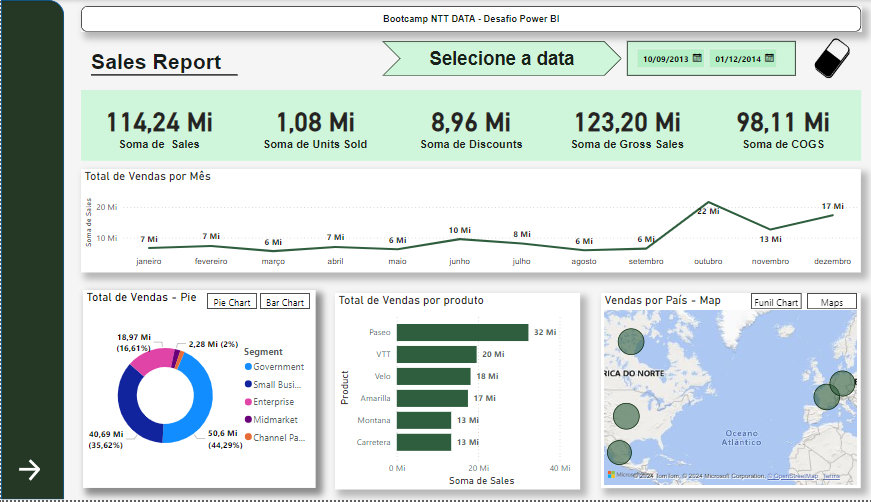

Layout of this report page (visuals, bound fields, positions):
{"tool":"powerbi","page":{"name":"Vendas","canvas":[1280,720],"ordinal":0},"visuals":[{"type":"slicer","fields":{"Values":["financials.Date"]},"box":[901.5,58.5,243.3,50.5],"z":0},{"type":"card","fields":{"Values":["Sum(financials. Sales)"]},"box":[115.3,129.7,224.7,102.1],"z":0,"group":"g2"},{"type":"clusteredBarChart","title":"Total de Vendas - Bar","fields":{"Category":["financials.Segment"],"Y":["Sum(financials. Sales)"]},"box":[117.7,417.9,334.4,284.6],"z":0,"group":"g1"},{"type":"map","title":"Vendas por País - Map","fields":{"Category":["financials.Country"],"Size":["Sum(financials. Sales)"]},"box":[864.2,422,374.2,280.9],"z":0,"group":"g3"},{"type":"card","fields":{"Values":["Sum(financials.Units Sold)"]},"box":[340,129.7,224.7,102.1],"z":1000,"group":"g2"},{"type":"donutChart","title":"Total de Vendas - Pie","fields":{"Category":["financials.Segment"],"Y":["Sum(financials. Sales)"]},"box":[117.7,417.9,335,284.9],"z":1000,"group":"g1"},{"type":"clusteredBarChart","title":"Total de Vendas por produto","fields":{"Y":["Sum(financials. Sales)"],"Category":["financials.Product"]},"box":[481.5,422,353.3,282.6],"z":1000},{"type":"actionButton","title":"Button - Bar Chart","box":[1080,422,72.7,23.2],"z":1250,"group":"g3"},{"type":"actionButton","title":"Button - Pie Chart","box":[295.8,422.9,72,22.8],"z":1250,"group":"g1"},{"type":"actionButton","title":"Button - Maps","box":[1160.9,422,71.7,23.2],"z":1500,"group":"g3"},{"type":"actionButton","title":"Button - Bar Chart ","box":[372.7,422.9,72,22.8],"z":1500,"group":"g1"},{"type":"shape","box":[549.1,58.5,345.2,50.5],"z":2000},{"type":"card","fields":{"Values":["Sum(financials.Discounts)"]},"box":[564.7,129.7,224.7,102.1],"z":2000,"group":"g2"},{"type":"card","fields":{"Values":["Sum(financials.Gross Sales)"]},"box":[789.3,129.7,224.7,102.1],"z":3000,"group":"g2"},{"type":"lineChart","title":"Total de Vendas por Mês","fields":{"Category":["financials.Date.Variation.Hierarquia de datas.Mês"],"Y":["Sum(financials. Sales)"]},"box":[115,243.6,1123.2,148.9],"z":3000},{"type":"shape","box":[0,0,90.9,719.4],"z":4000},{"type":"card","fields":{"Values":["Sum(financials.COGS)"]},"box":[1014,129.7,224.7,102.1],"z":4000,"group":"g2"},{"type":"group","id":"g1","title":"Sales Por Segmento","box":[117.7,417.9,335,284.9],"z":5000},{"type":"group","id":"g2","title":"Cartões","box":[115.3,129.7,1123.4,102.1],"z":6000},{"type":"actionButton","title":"Prox página","box":[19.6,657.2,50.1,40.3],"z":7000},{"type":"group","id":"g3","title":"Sales por Country","box":[863.1,422,375.3,281],"z":8000},{"type":"shape","box":[129.2,72.7,211,71.7],"z":9000},{"type":"shape","box":[115.1,9.1,1123.5,37.4],"z":10000},{"type":"image","box":[1152.8,50.5,87.8,66.6],"z":11000},{"type":"actionButton","box":[1159.9,50.5,78.7,66.6],"z":12000}]}

Visuals, with their boxes on the page's 1280x720 design canvas (x1, y1, x2, y2). These are canvas units, not pixel positions in the 871x502 screenshot, which may show the page scaled, cropped or inside an application window:
slicer - financials.Date: left=902, top=58, right=1145, bottom=109
card - Sum(financials. Sales): left=115, top=130, right=340, bottom=232
"Total de Vendas - Bar" clusteredBarChart: left=118, top=418, right=452, bottom=702
"Vendas por País - Map" map: left=864, top=422, right=1238, bottom=703
card - Sum(financials.Units Sold): left=340, top=130, right=565, bottom=232
"Total de Vendas - Pie" donutChart: left=118, top=418, right=453, bottom=703
"Total de Vendas por produto" clusteredBarChart: left=482, top=422, right=835, bottom=705
"Button - Bar Chart" actionButton: left=1080, top=422, right=1153, bottom=445
"Button - Pie Chart" actionButton: left=296, top=423, right=368, bottom=446
"Button - Maps" actionButton: left=1161, top=422, right=1233, bottom=445
"Button - Bar Chart " actionButton: left=373, top=423, right=445, bottom=446
shape: left=549, top=58, right=894, bottom=109
card - Sum(financials.Discounts): left=565, top=130, right=789, bottom=232
card - Sum(financials.Gross Sales): left=789, top=130, right=1014, bottom=232
"Total de Vendas por Mês" lineChart: left=115, top=244, right=1238, bottom=392
shape: left=0, top=0, right=91, bottom=719
card - Sum(financials.COGS): left=1014, top=130, right=1239, bottom=232
"Sales Por Segmento" group: left=118, top=418, right=453, bottom=703
"Cartões" group: left=115, top=130, right=1239, bottom=232
"Prox página" actionButton: left=20, top=657, right=70, bottom=698
"Sales por Country" group: left=863, top=422, right=1238, bottom=703
shape: left=129, top=73, right=340, bottom=144
shape: left=115, top=9, right=1239, bottom=46
image: left=1153, top=50, right=1241, bottom=117
actionButton: left=1160, top=50, right=1239, bottom=117
